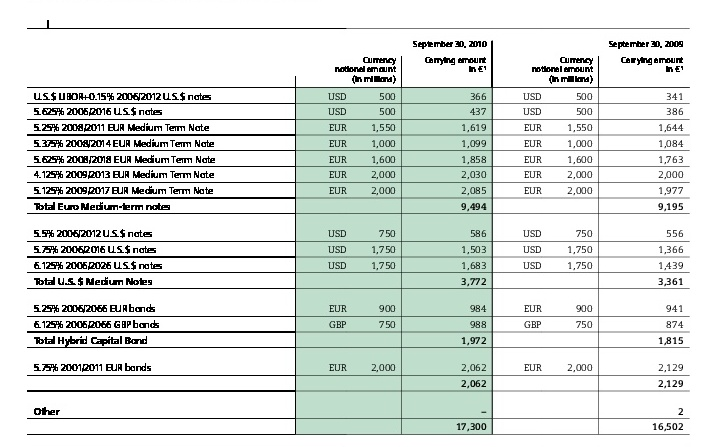table: (0, 0, 715, 447)
